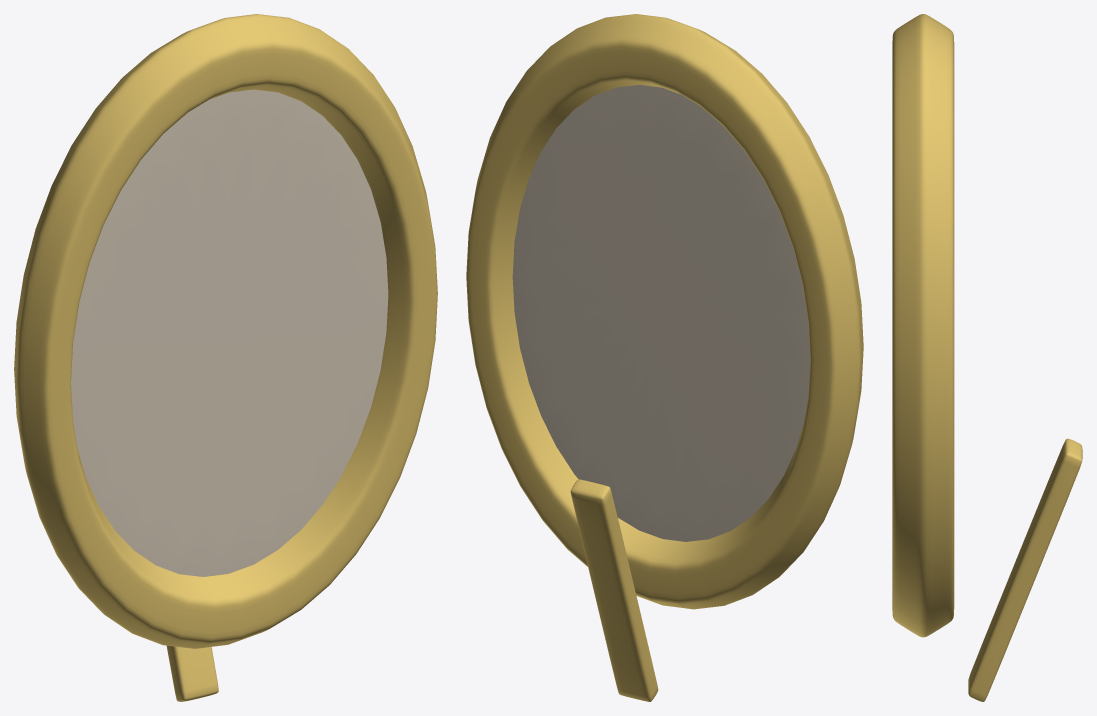
File: photo_frame.glb
The picture shows the model from 3 angles, left to right: view 1: azimuth 30°, elevation 25°; view 2: azimuth 150°, elevation 25°; view 3: azimuth 270°, elevation 25°; orthographic projection. The views are drawn at different scales.
Parts seen in each view (by area): view 1: photo_frame; view 2: photo_frame; view 3: photo_frame.
Part boxes in pixels (x1,y1,x2,y2): photo_frame: (14,14,437,701); photo_frame: (466,14,863,701); photo_frame: (892,14,1082,701).
Size of the model in its own units: 0.446 by 0.7198 by 0.1863.
